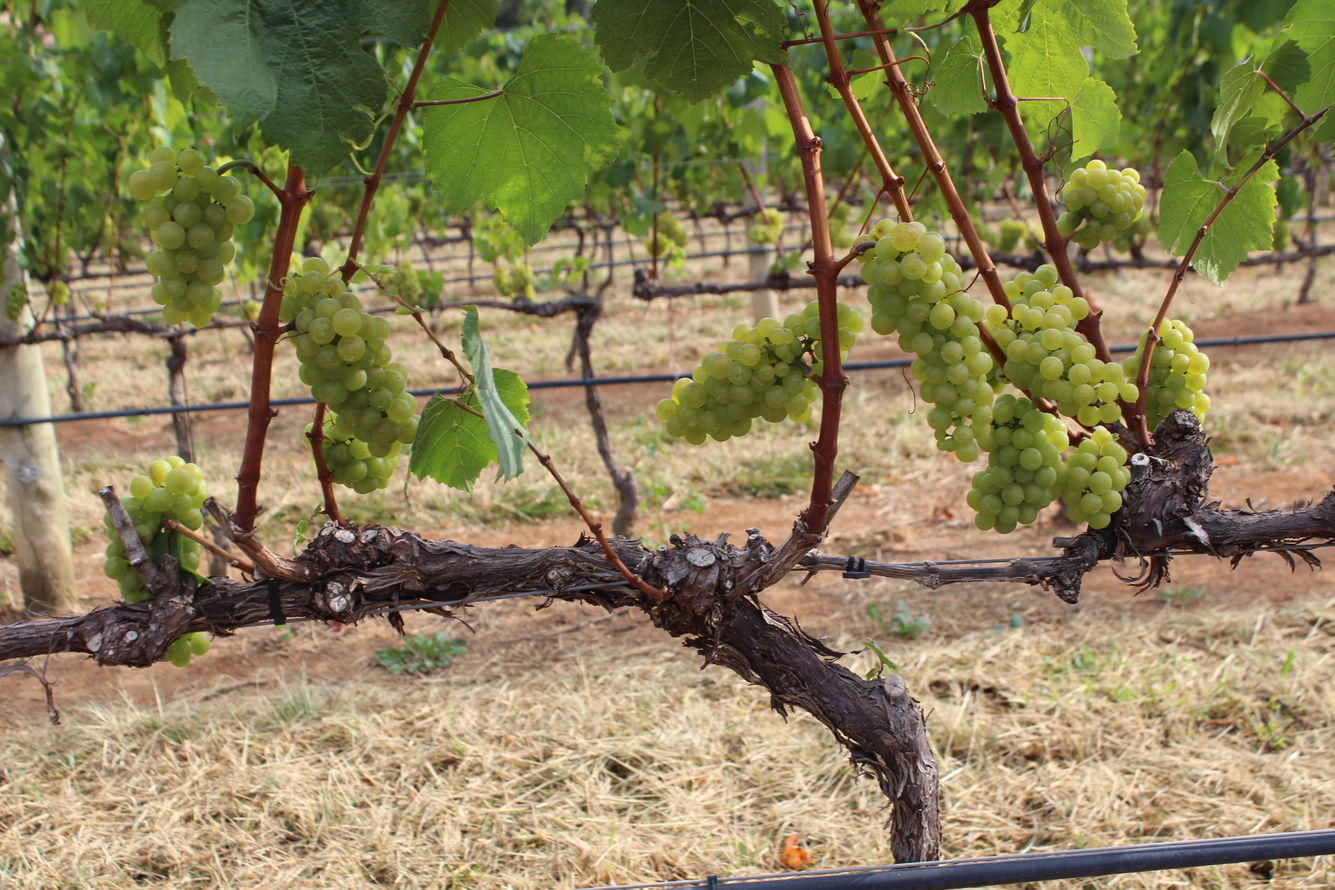leaf: (170, 0, 429, 176), (423, 35, 621, 244), (592, 0, 786, 104), (462, 306, 527, 479), (1191, 161, 1277, 285), (409, 392, 498, 492), (1007, 3, 1089, 100), (1159, 151, 1231, 256), (1281, 0, 1335, 114), (83, 0, 168, 67), (928, 29, 988, 116), (1048, 0, 1137, 58), (1071, 77, 1121, 160), (434, 0, 496, 57), (493, 369, 528, 424), (429, 79, 486, 101), (1024, 101, 1068, 125), (1314, 112, 1335, 139), (1235, 162, 1251, 177), (1251, 154, 1259, 162), (432, 4, 434, 14), (525, 391, 526, 401), (1234, 180, 1236, 181)
